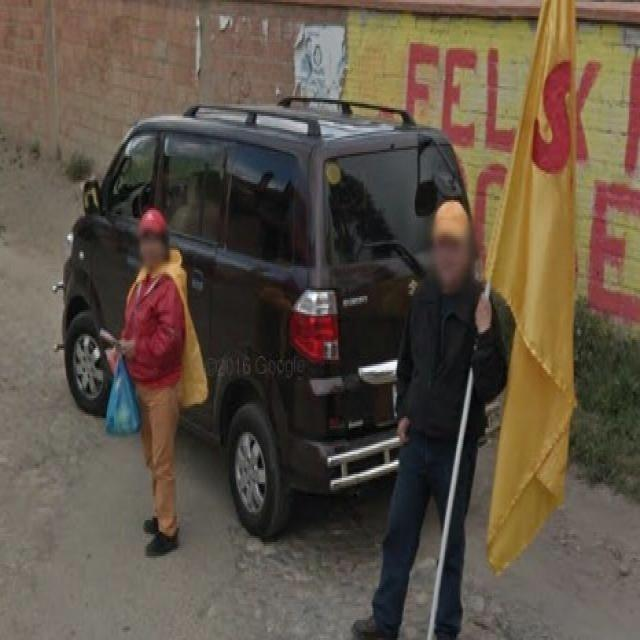Car: (62, 113, 452, 542)
